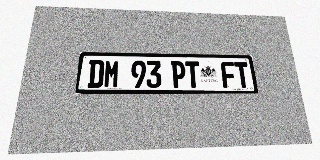3: (146, 61, 161, 88)
9: (131, 60, 146, 88)
D: (87, 60, 105, 88)
F: (221, 62, 237, 88)
M: (103, 60, 120, 88)
P: (171, 61, 186, 88)
T: (234, 62, 251, 88), (185, 61, 201, 88)
